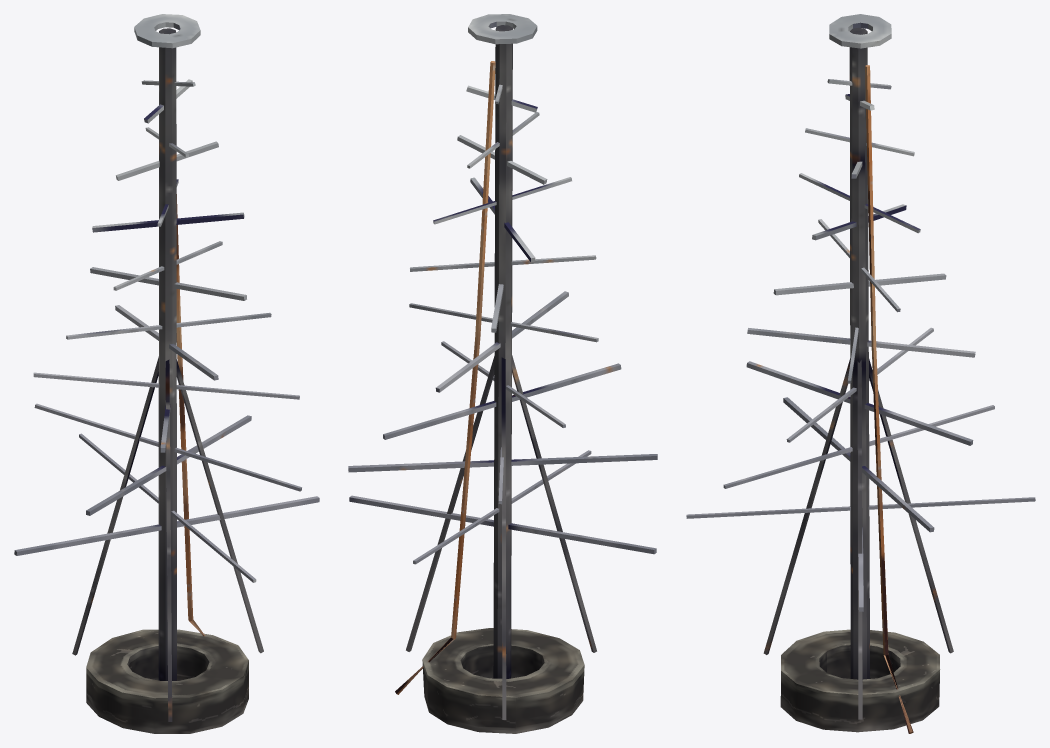
The model's file is ScrapTreeAntenna.glb.
3 views of the same model, side by side, from view 1: azimuth 30°, elevation 25°; view 2: azimuth 150°, elevation 25°; view 3: azimuth 270°, elevation 25° (orthographic).
Parts seen in each view (by area): view 1: Mast, Elements, Tyre, Cable; view 2: Elements, Mast, Tyre, Cable; view 3: Mast, Elements, Tyre, Cable.
Part boxes in pixels (left/top/right/bottom): Mast: left=72, top=28, right=263, bottom=721; Elements: left=14, top=14, right=319, bottom=582; Tyre: left=86, top=629, right=248, bottom=733; Cable: left=176, top=194, right=205, bottom=636; Elements: left=348, top=14, right=657, bottom=564; Mast: left=406, top=25, right=596, bottom=719; Tyre: left=422, top=628, right=584, bottom=733; Cable: left=395, top=61, right=495, bottom=694; Mast: left=763, top=27, right=953, bottom=719; Elements: left=686, top=14, right=1035, bottom=611; Tyre: left=780, top=629, right=940, bottom=732; Cable: left=865, top=65, right=913, bottom=733.
Bounding box in the file's own units: 5.23 × 11.08 × 5.22.
Materials: 4 (4 with a texture image).
